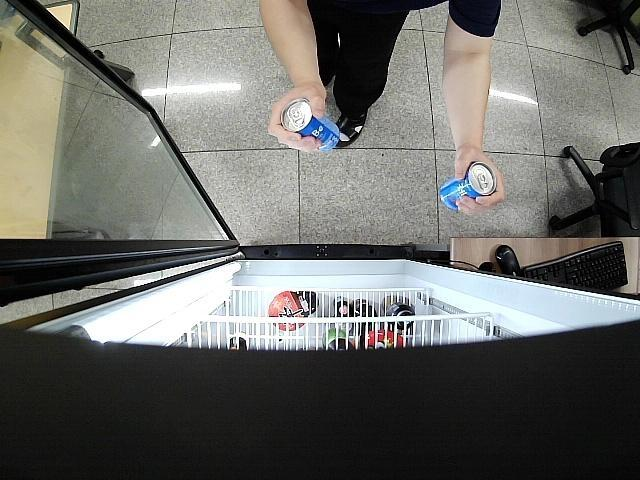15_letsbe: (282, 97, 341, 151), (439, 162, 497, 210)
